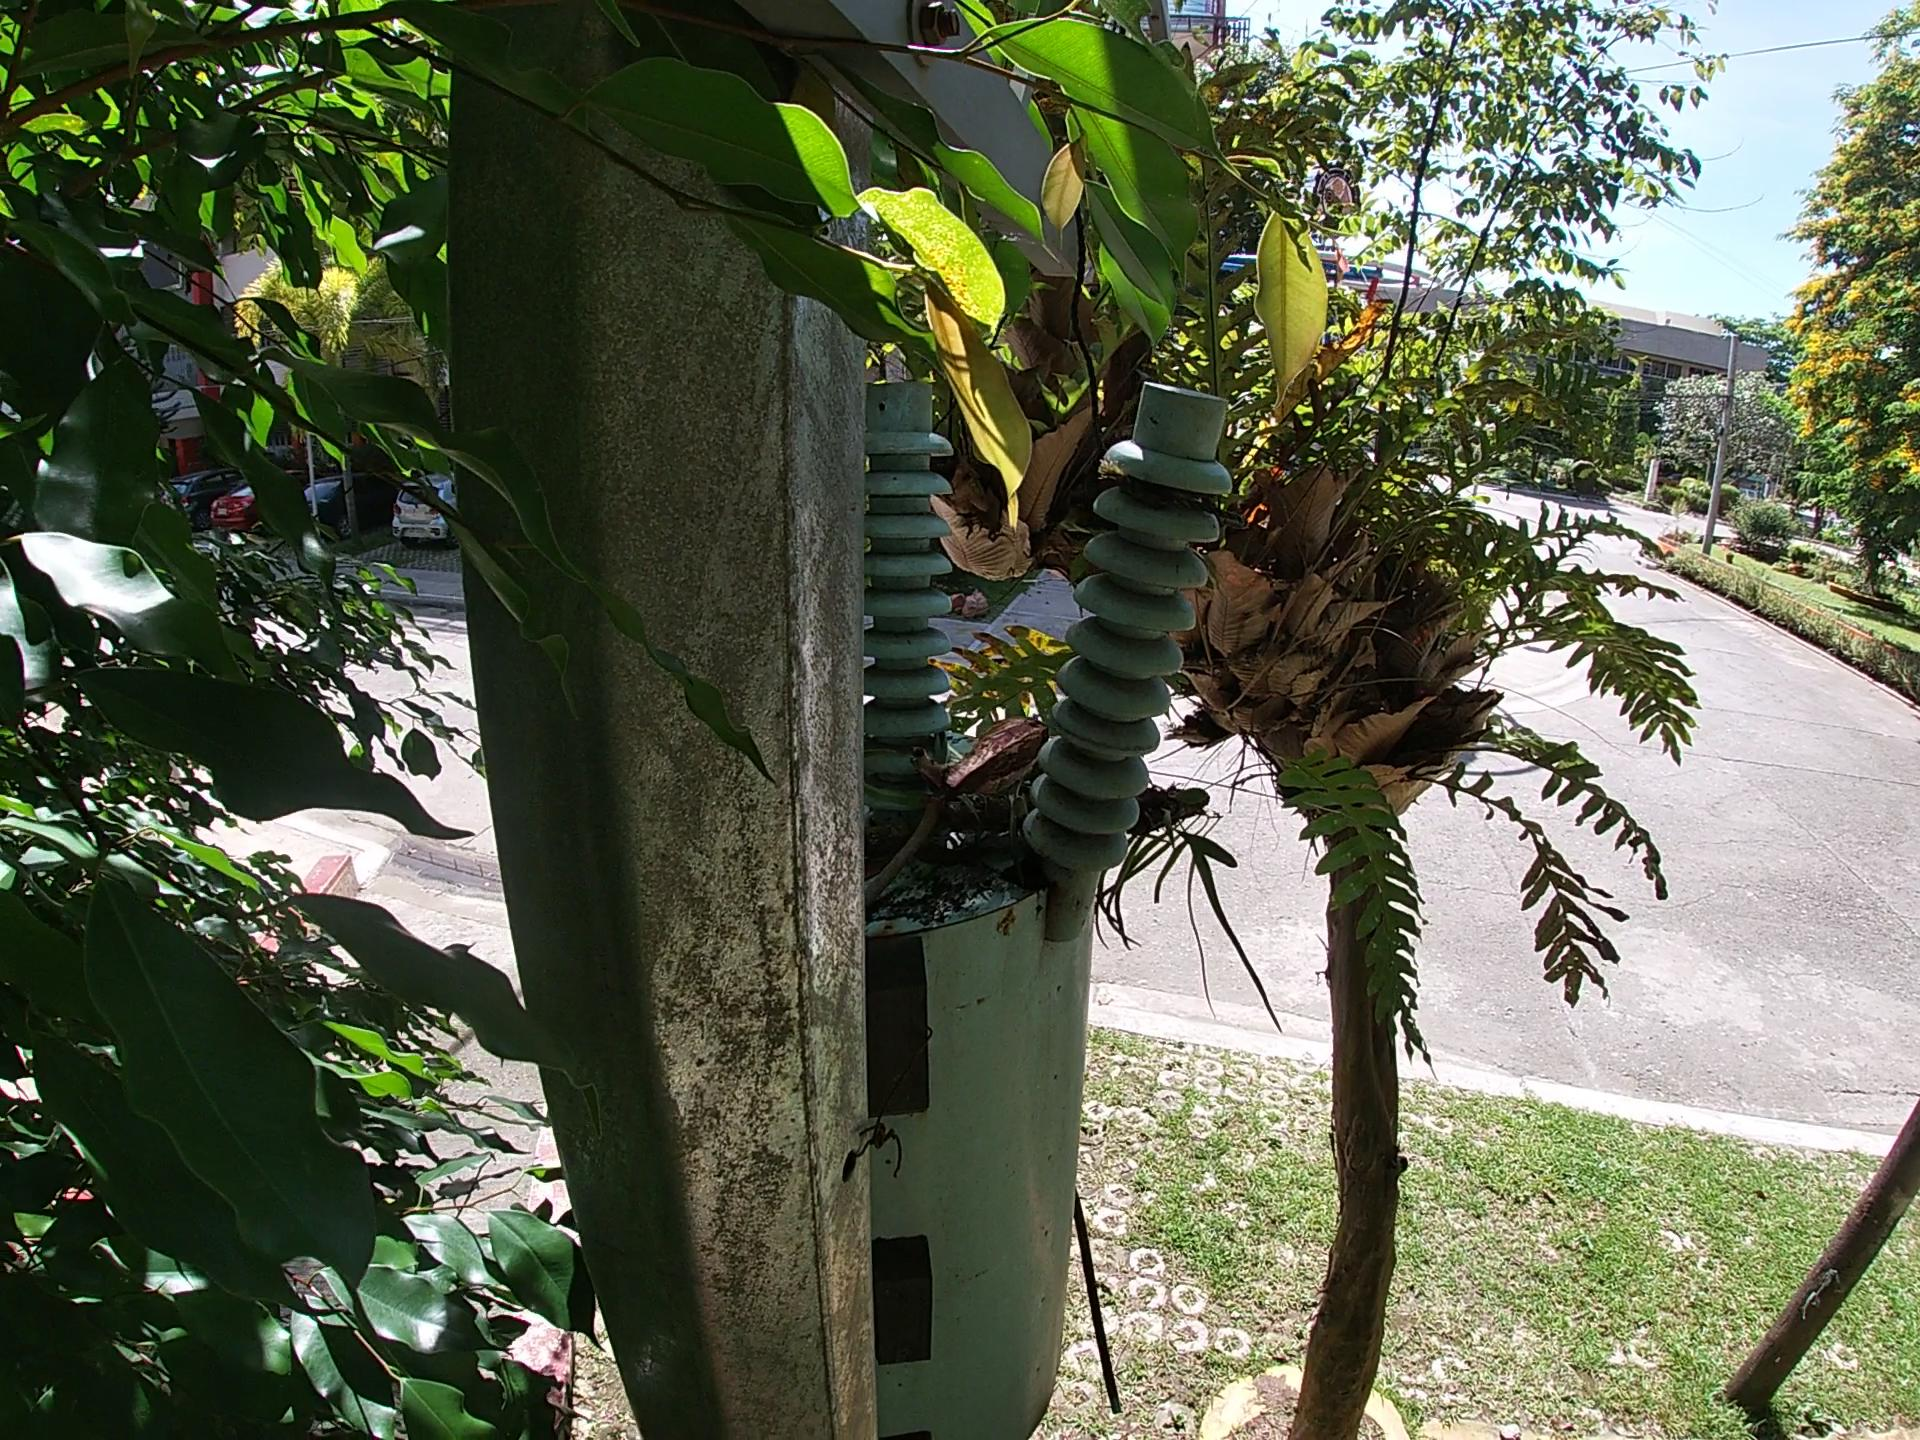branch with leaves: (892, 737, 1268, 905), (892, 720, 989, 911)
mahogany fruit: (900, 725, 1067, 852)
